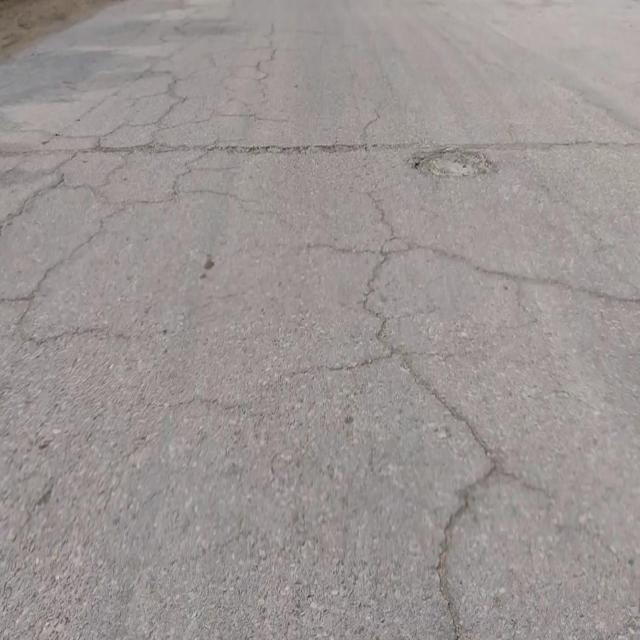Potholes: (408, 144, 499, 182)
